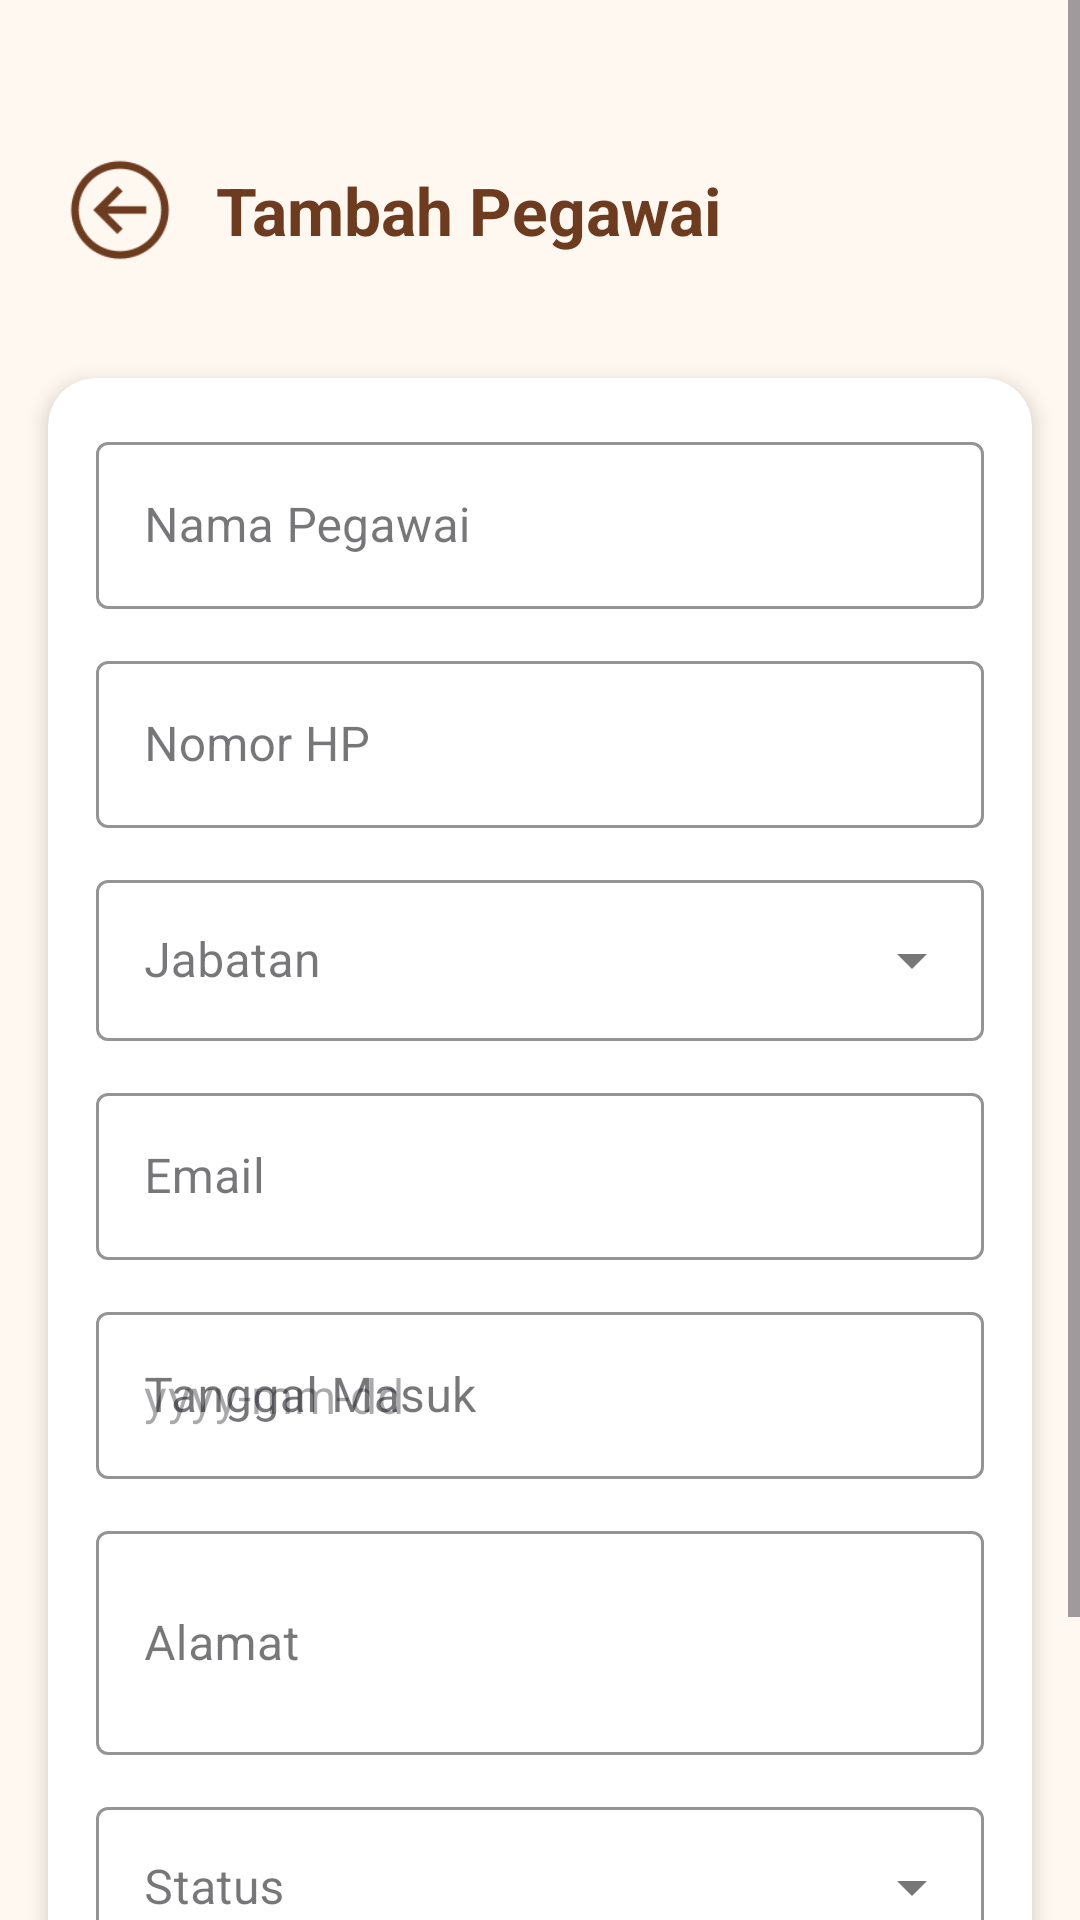

Where icons sit on this 1080px×1920px app screen, as (x1, y1, x2, y2):
Kembali: (70, 160, 170, 260)
